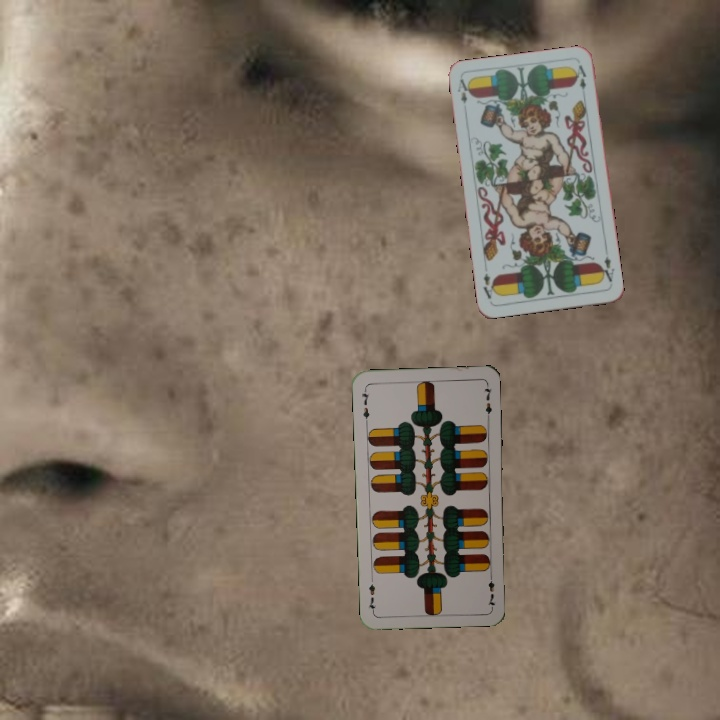E7: (358, 385, 372, 425), (484, 569, 497, 609)
EA: (453, 75, 473, 115), (597, 247, 617, 284)
